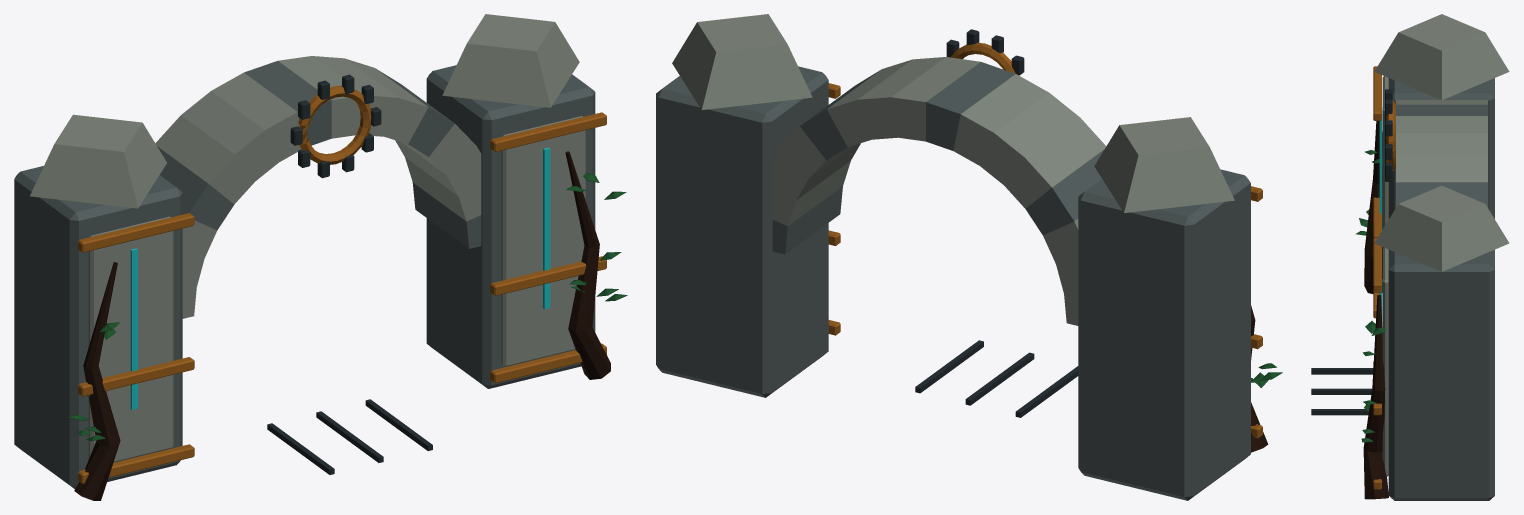
The model's file is Entrada_estacao_invadida_LOD0.fbx.
3 views of the same model, side by side, from view 1: azimuth 30°, elevation 25°; view 2: azimuth 150°, elevation 25°; view 3: azimuth 270°, elevation 25° (orthographic). The views are drawn at different scales.
Parts seen in each view (by area): view 1: Entrada_estacao_invadida_LOD0; view 2: Entrada_estacao_invadida_LOD0; view 3: Entrada_estacao_invadida_LOD0.
Boxes of the visible parts, x1,y1,x2,y2 form: Entrada_estacao_invadida_LOD0: (14,14,627,500); Entrada_estacao_invadida_LOD0: (656,14,1282,500); Entrada_estacao_invadida_LOD0: (1311,14,1509,500).
Bounding box in the file's own units: 1127 × 687 × 410.
1 material, 1 textured.
